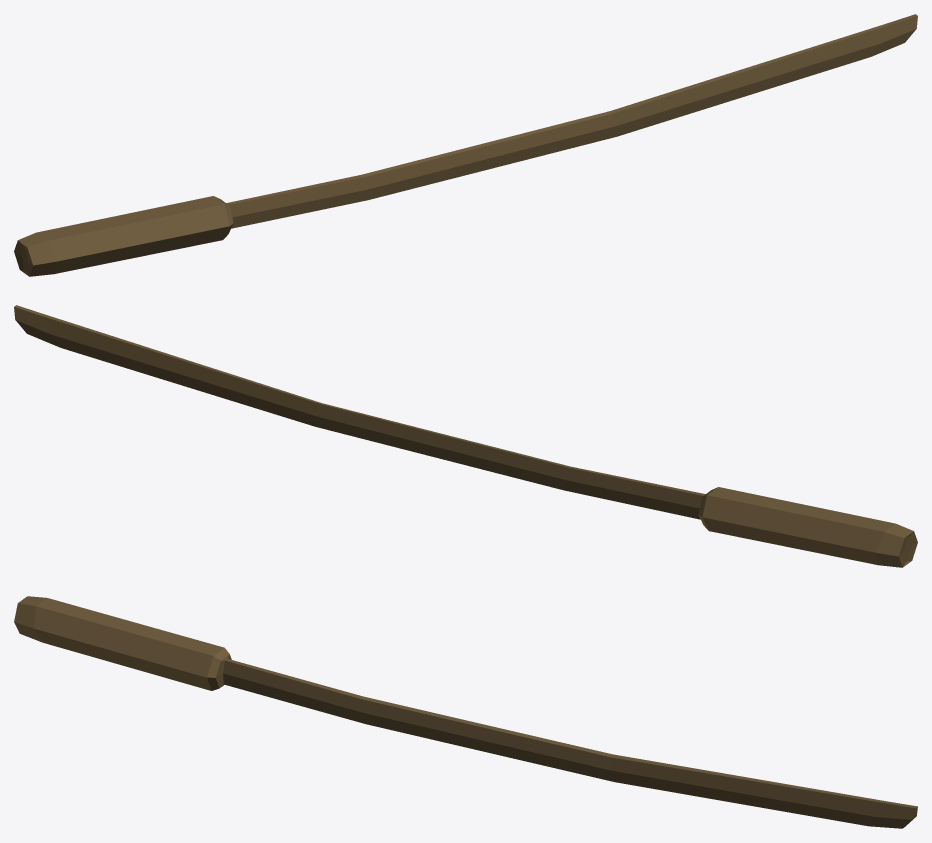
The model's file is Wooden_Sword_3.fbx.
The picture shows the model from 3 angles, top to bottom: view 1: azimuth 30°, elevation 25°; view 2: azimuth 150°, elevation 25°; view 3: azimuth 330°, elevation 25°; orthographic projection.
Visible parts, largest first — view 1: Bokuto; view 2: Bokuto; view 3: Bokuto.
Part boxes in pixels (x1=…): Bokuto: x1=14, y1=14, x2=917, y2=276; Bokuto: x1=14, y1=305, x2=917, y2=567; Bokuto: x1=14, y1=596, x2=917, y2=828.
Bounding box in the file's own units: 133 × 7.13 × 5.82.
